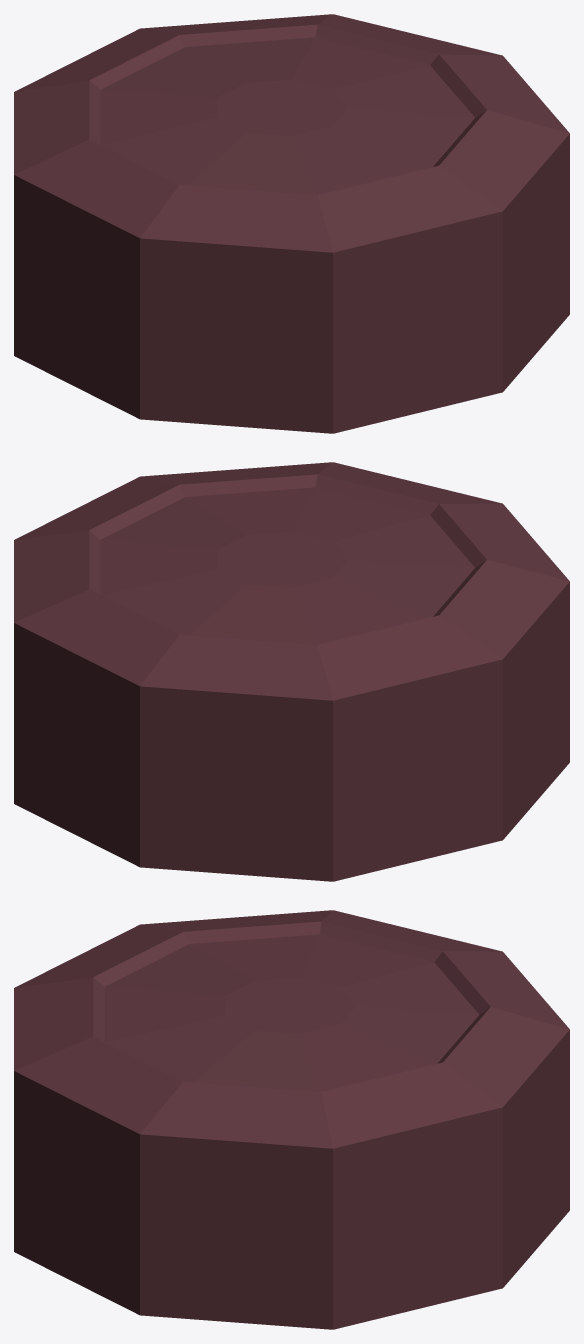
File: scifi-scifi-buggy-wheel.glb
3 renders of one model, top to bottom at view 1: azimuth 30°, elevation 25°; view 2: azimuth 150°, elevation 25°; view 3: azimuth 270°, elevation 25°, orthographic.
Visible parts, largest first — view 1: scifi-buggy-wheel; view 2: scifi-buggy-wheel; view 3: scifi-buggy-wheel.
Boxes of the visible parts, x1,y1,x2,y2 form: scifi-buggy-wheel: [14, 14, 569, 433]; scifi-buggy-wheel: [14, 462, 569, 881]; scifi-buggy-wheel: [14, 910, 569, 1329].
Size of the model in its own units: 1.69 by 0.7531 by 1.66.
